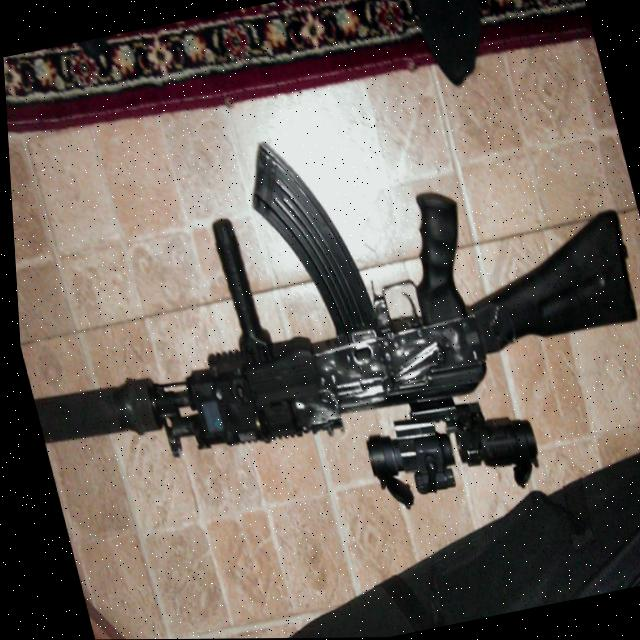firearm: (4, 74, 640, 580)
